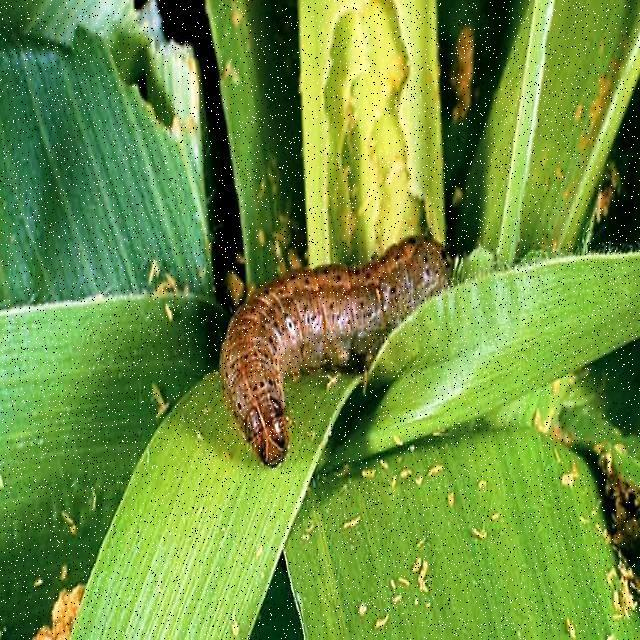army worm: (180, 185, 520, 485)
